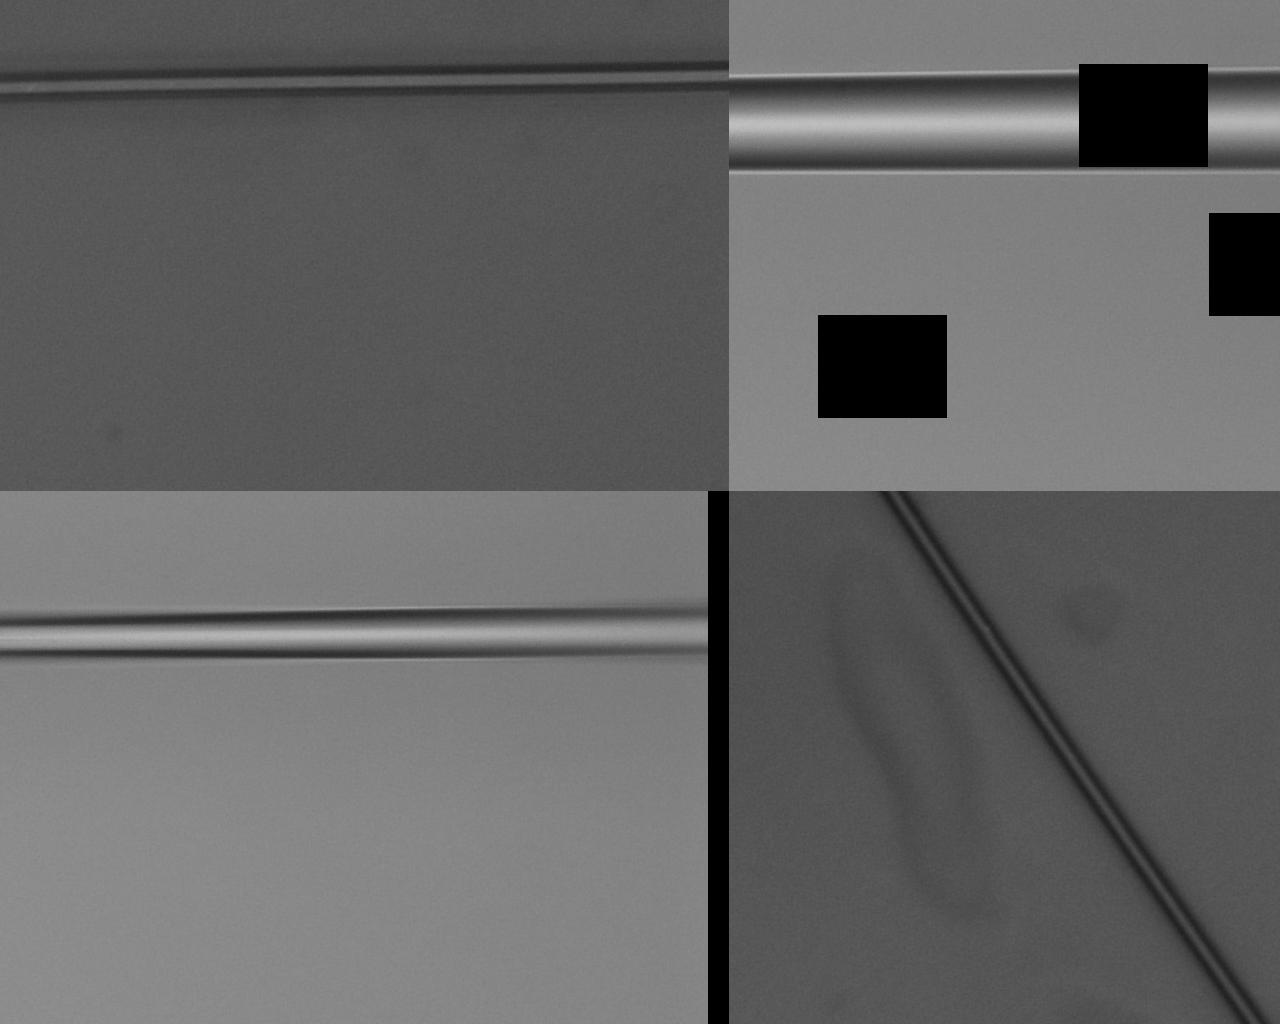fiber: (584, 327, 1193, 1024), (0, 554, 550, 1024), (0, 22, 485, 77)
